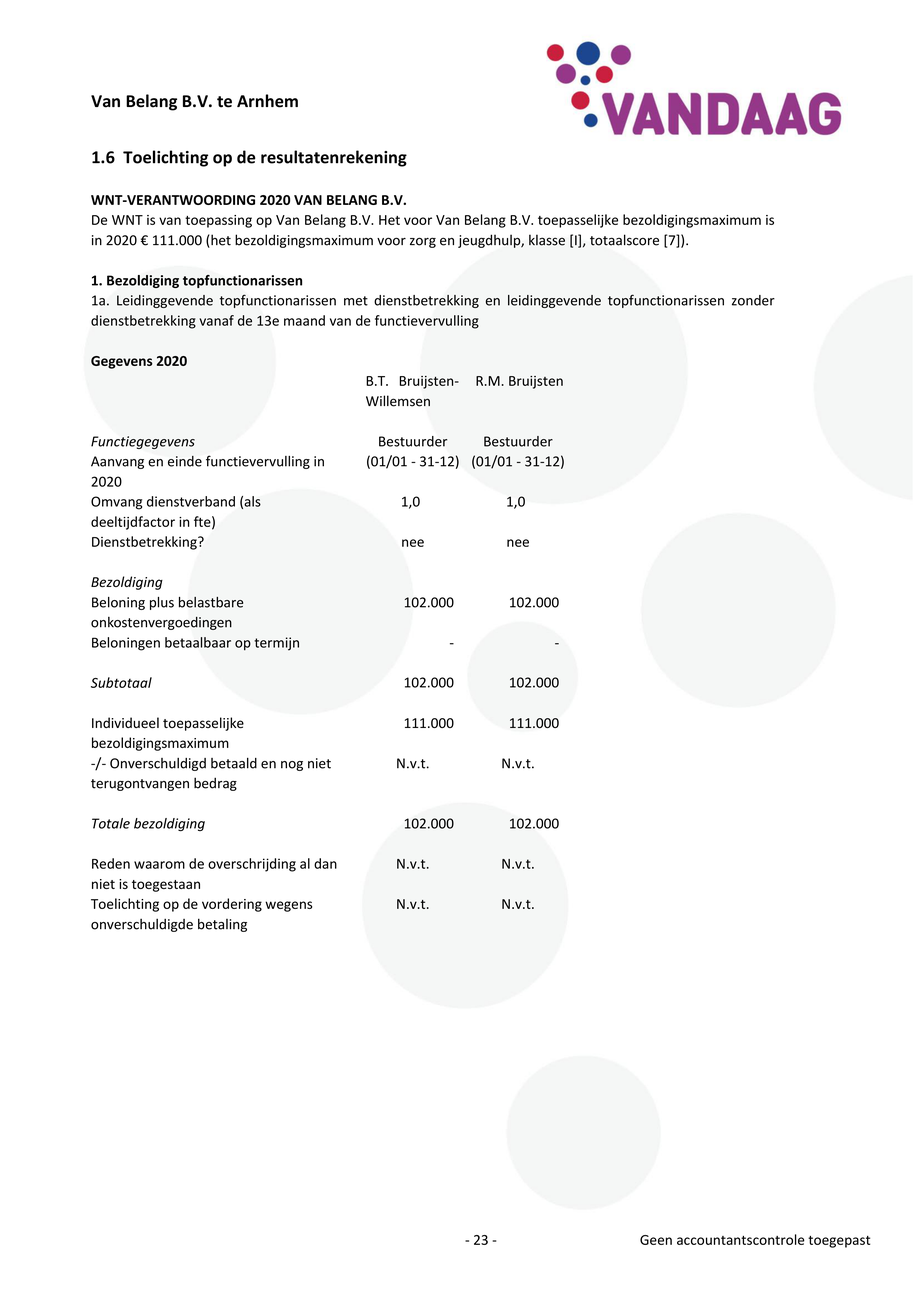coulmn: (79, 352, 341, 941), (348, 368, 467, 929), (474, 366, 569, 933)
